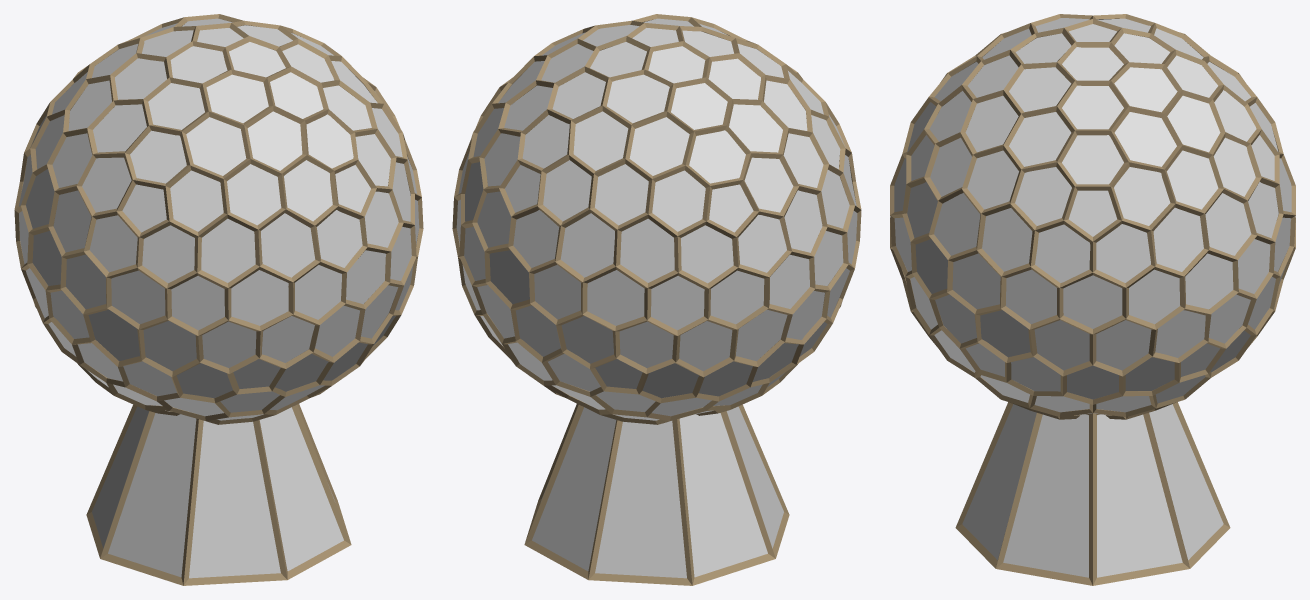
Rendered from kure2.fbx.
3 views of the same model, side by side, from view 1: azimuth 30°, elevation 25°; view 2: azimuth 150°, elevation 25°; view 3: azimuth 270°, elevation 25° (orthographic).
Parts seen in each view (by area): view 1: DualMesh; view 2: DualMesh; view 3: DualMesh.
Part boxes in pixels (x1,y1,x2,y2): DualMesh: (14, 14, 423, 585); DualMesh: (452, 14, 861, 585); DualMesh: (890, 14, 1295, 585).
Bounding box in the file's own units: 192 × 259 × 192.
